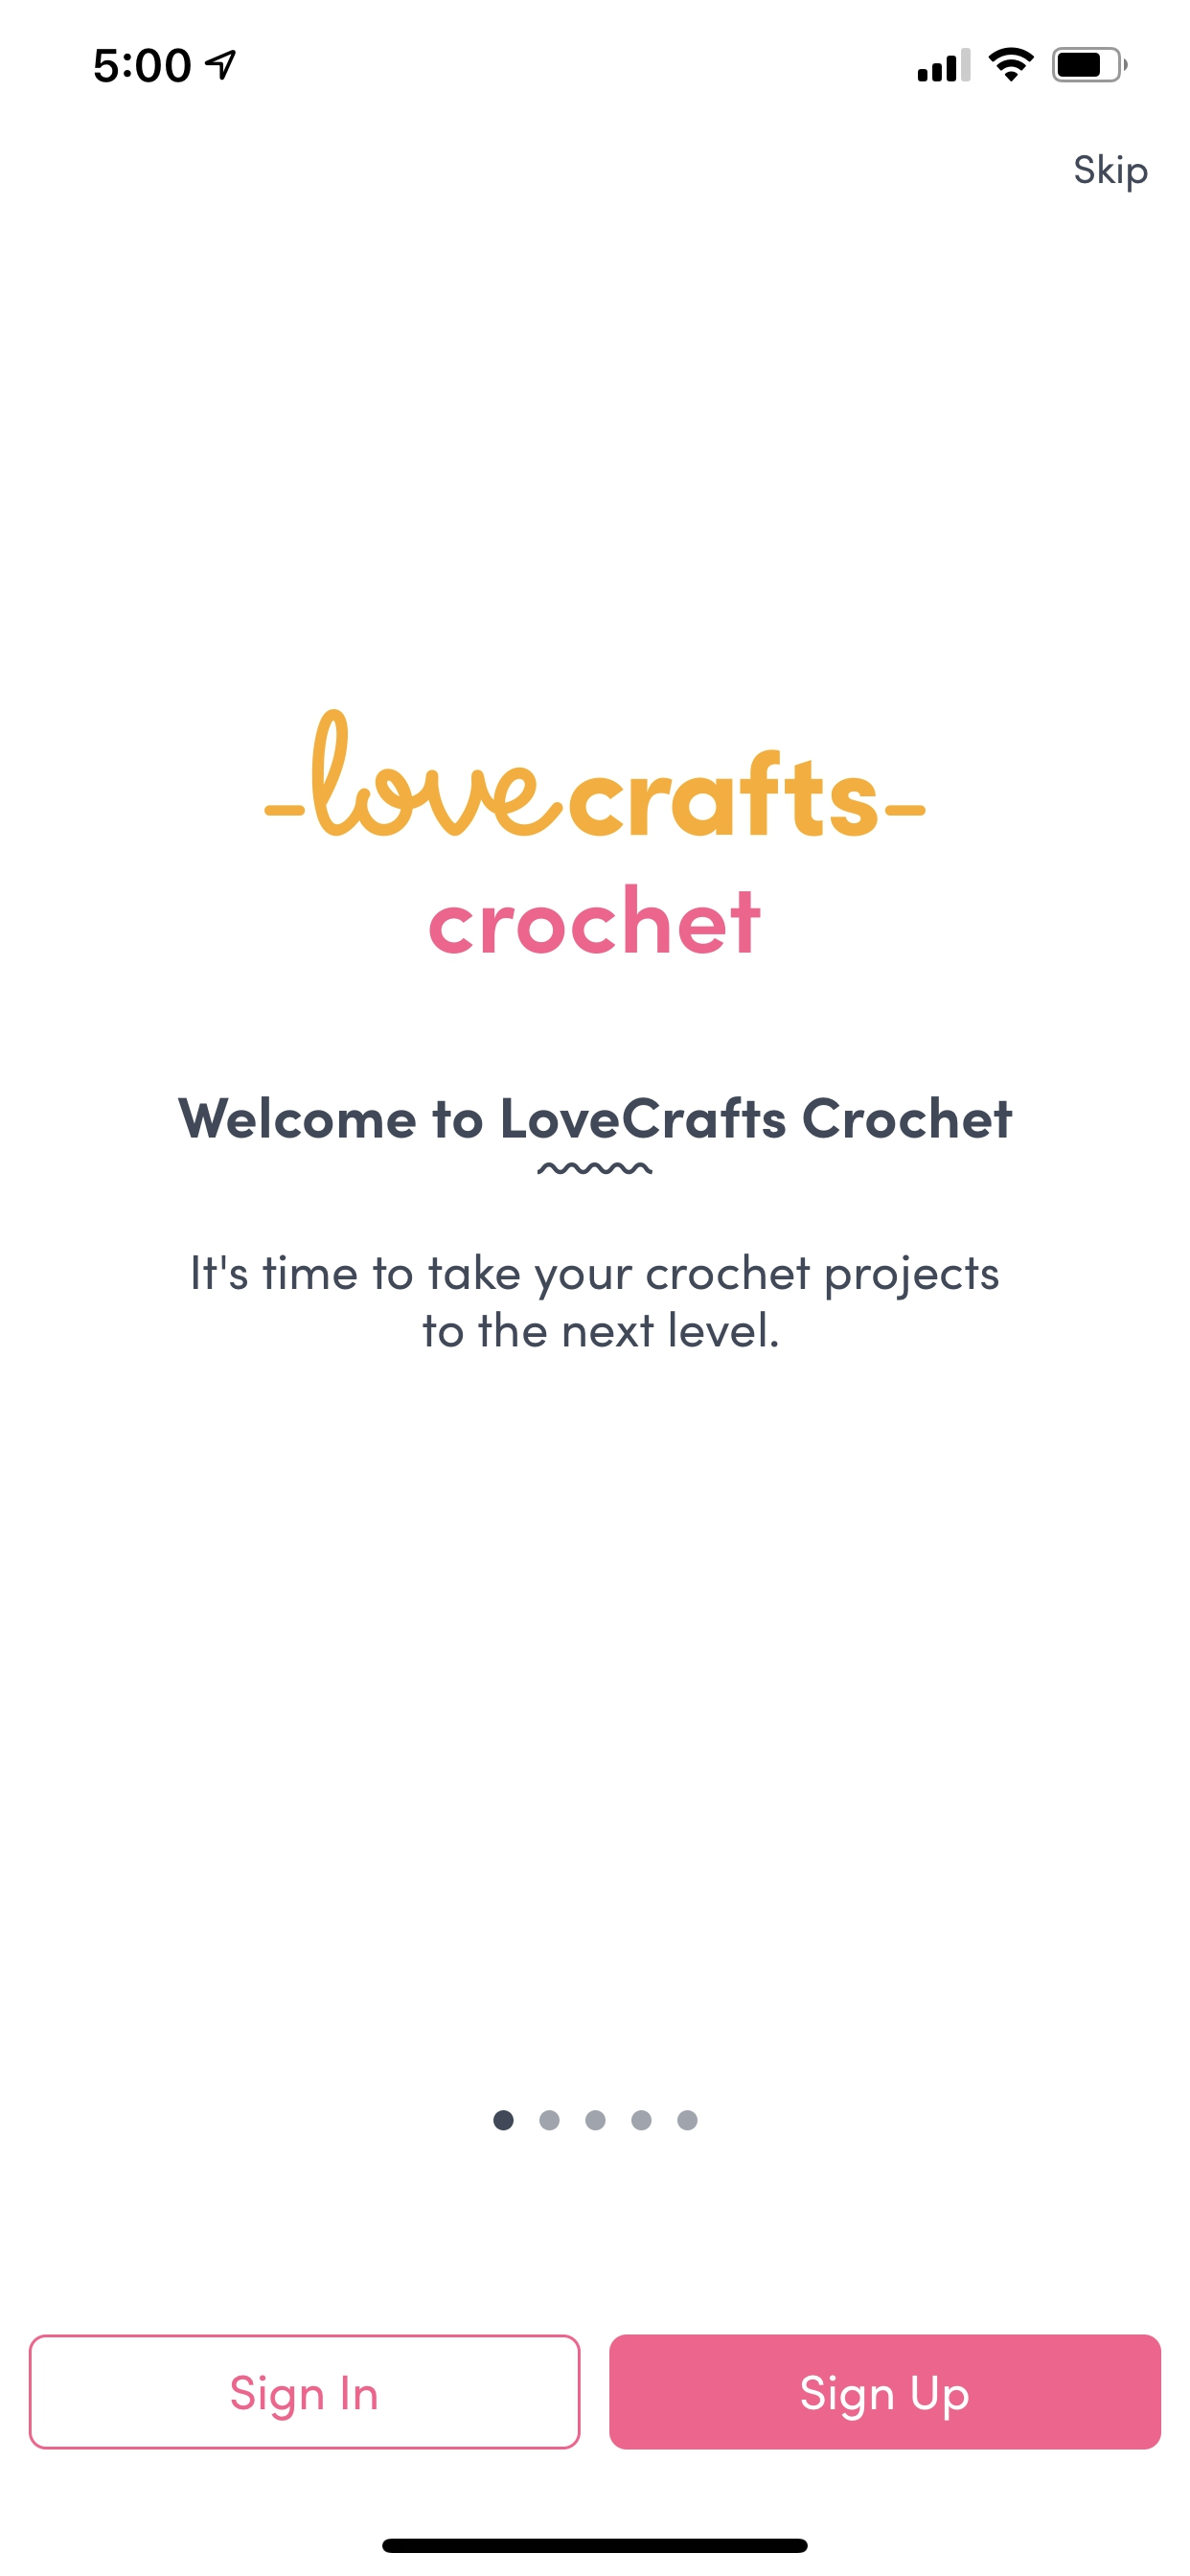Image: (265, 708, 927, 838)
PageIndicator: (493, 2109, 697, 2131)
Text: (194, 1253, 998, 1347), (178, 1096, 1012, 1138), (429, 884, 761, 954), (1075, 154, 1147, 194)
TextButton: (610, 2333, 1162, 2449), (28, 2333, 580, 2449)
UpperTaskBar: (95, 48, 1128, 84)
